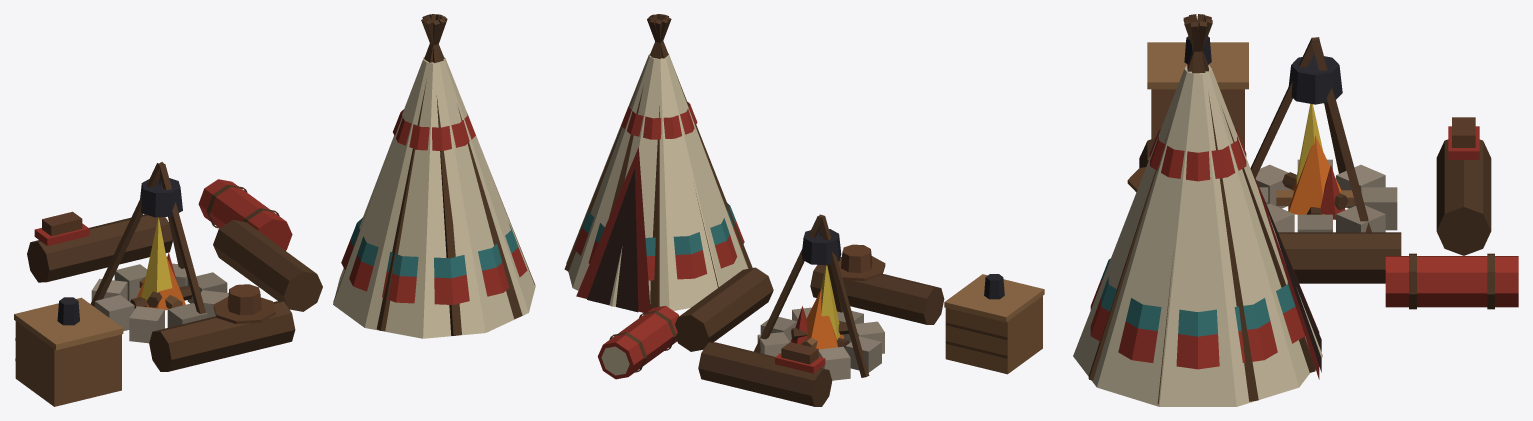
File: Decor_WesternSaloon_Camp.fbx
The picture shows the model from 3 angles, left to right: view 1: azimuth 30°, elevation 25°; view 2: azimuth 150°, elevation 25°; view 3: azimuth 270°, elevation 25°; orthographic projection. The views are drawn at different scales.
Parts seen in each view (by area): view 1: Camp_Body; view 2: Camp_Body; view 3: Camp_Body.
Boxes of the visible parts, bbox=[...] form: Camp_Body: bbox=[14, 14, 535, 406]; Camp_Body: bbox=[564, 14, 1044, 406]; Camp_Body: bbox=[1073, 14, 1518, 406].
Bounding box in the file's own units: 17.4 × 9.6 × 11.4.
